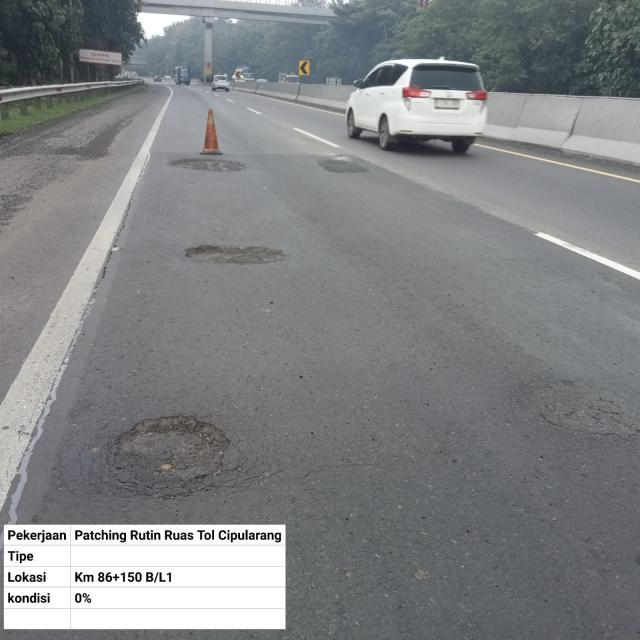Buraco: (110, 411, 234, 485), (180, 243, 292, 267), (165, 156, 250, 174)
